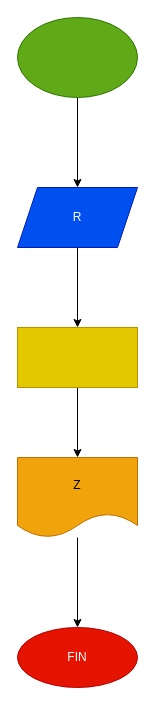
The diagram is 155 pixels wide and 705 high, and some of its shapes have lost their labels. The centre of each missing label's shape, as x and y in pixels:
"INICIO" belongs at point (77, 57).
"Z1 = Pi * (R)2 Z2 = 2 * PI * R" belongs at point (77, 357).
